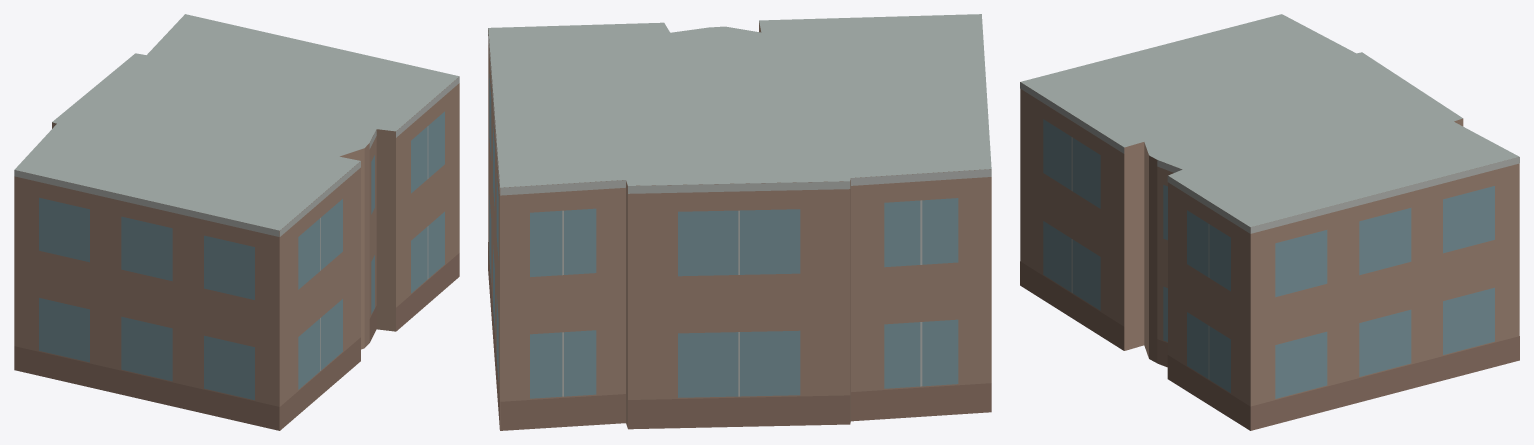
Rendered from survey-upis-32624902.glb.
3 renders of one model, left to right at view 1: azimuth 30°, elevation 25°; view 2: azimuth 150°, elevation 25°; view 3: azimuth 270°, elevation 25°, orthographic. The views are drawn at different scales.
Parts seen in each view (by area): view 1: survey-upis-32624902.tmp; view 2: survey-upis-32624902.tmp; view 3: survey-upis-32624902.tmp.
Boxes of the visible parts, left/top/right/bottom form: survey-upis-32624902.tmp: left=14, top=14, right=459, bottom=430; survey-upis-32624902.tmp: left=488, top=14, right=991, bottom=430; survey-upis-32624902.tmp: left=1020, top=14, right=1519, bottom=430.
Size of the model in its own units: 16.86 by 7.5 by 16.69.
